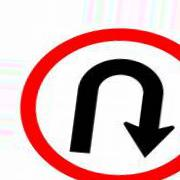back: (21, 27, 180, 179)
